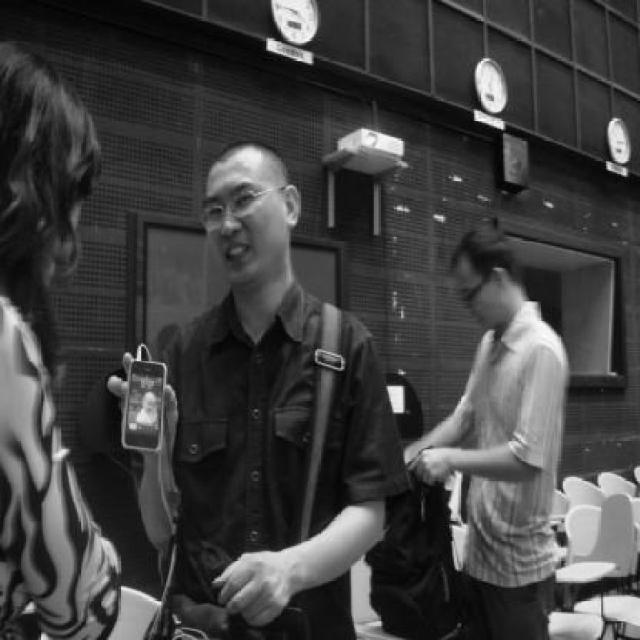fake: (106, 358, 166, 451)
real: (201, 150, 296, 286)
